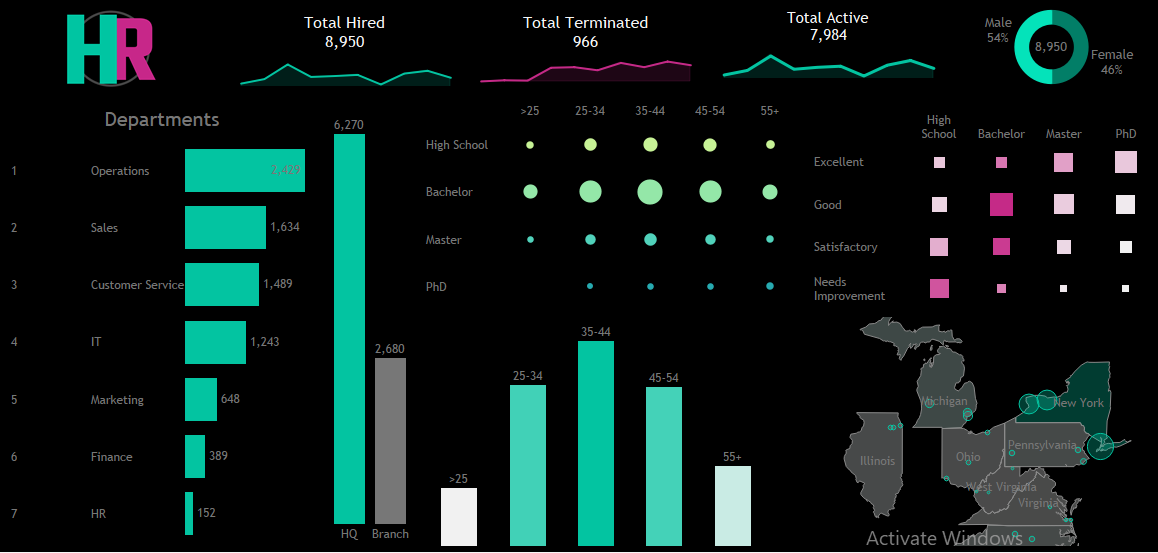

The dashboard page shown, as its layout file describes it:
{"tool":"tableau","page":{"name":"HR Sammary","canvas":[1000,1000],"units":"permille","ordinal":0},"visuals":[{"type":"blank","box":[5.2,10.9,83.1,395.8]},{"type":"text","box":[96.1,16.3,446.7,61.6]},{"type":"blank","box":[542.9,16.3,394.8,61.6]},{"type":"text","box":[98.7,94.2,203.5,48.9]},{"type":"text","box":[310,99.6,622.5,48.9]},{"type":"text","box":[98.7,143.1,203.5,58]},{"type":"text","box":[312.6,154,109.1,39.9]},{"type":"blank","box":[421.7,154,27.7,268.1]},{"type":"text","box":[449.4,154,227.7,39.9]},{"type":"blank","box":[677.1,154,27.7,268.1]},{"type":"text","box":[704.8,154,225.1,39.9]},{"type":"worksheet","title":"gender","mark":"Pie","cols":["Calculation_195906642923786244","Calculation_195906642923786244"],"box":[312.6,193.8,109.1,228.3]},{"type":"worksheet","title":"Age Group","mark":"Bar","rows":["Calculation_335799705955426304"],"cols":["Calculation_195906642927767558"],"box":[449.4,193.8,227.7,119.6]},{"type":"worksheet","title":"Education vs Performance","mark":"Square","rows":["Performance Rating"],"cols":["Education Level"],"box":[704.8,193.8,225.1,228.3]},{"type":"worksheet","title":"Ban Active","mark":"Automatic","box":[98.7,201.1,203.5,18.1]},{"type":"blank","box":[98.7,219.2,203.5,56.2]},{"type":"text","box":[101.3,280.8,77.1,51.9]},{"type":"blank","box":[178.4,280.8,40.7,155.8]},{"type":"text","box":[219.1,280.8,80.5,39.9]},{"type":"worksheet","title":"Age vs Education","mark":"Circle","rows":["Education Level"],"cols":["Calculation_195906642927767558"],"box":[449.4,313.4,141.1,108.7]},{"type":"worksheet","title":"Education Levels","mark":"Bar","rows":["Education Level"],"cols":["Calculation_335799705955426304"],"box":[590.5,313.4,86.6,108.7]},{"type":"worksheet","title":"Ban Terminated","mark":"Automatic","box":[219.1,320.6,80.5,58]},{"type":"worksheet","title":"Ban Hired","mark":"Automatic","box":[101.3,332.7,77.1,51.9]},{"type":"worksheet","title":"Terminated By Year","mark":"Line","rows":["Calculation_335799705956065281","Calculation_335799705956065281"],"cols":["Termdate"],"box":[219.1,378.6,80.5,58]},{"type":"worksheet","title":"Hired By Year","mark":"Line","rows":["Calculation_335799705955426304","Calculation_335799705955426304"],"cols":["Hiredate"],"box":[101.3,384.6,77.1,52]},{"type":"blank","box":[5.2,406.7,83.1,395.8]},{"type":"blank","box":[310,427.5,622.5,67]},{"type":"blank","box":[98.7,442,61.5,58]},{"type":"text","box":[160.2,442,74.5,58]},{"type":"blank","box":[234.6,442,67.5,58]},{"type":"worksheet","title":"Departments","mark":"Bar","rows":["Calculation_195906642866061313","Department"],"cols":["Calculation_335799705955426304"],"box":[98.7,500,203.5,126.8]},{"type":"text","box":[310,505.4,622.5,48.9]},{"type":"blank","box":[312.6,559.8,308.6,235.5]},{"type":"blank","box":[621.2,559.8,308.6,235.5]},{"type":"blank","box":[98.7,626.8,71.3,54.4]},{"type":"text","box":[170,626.8,60.9,54.4]},{"type":"blank","box":[230.9,626.8,71.3,54.4]},{"type":"worksheet","title":"map state","mark":"Multipolygon","box":[98.7,681.2,150.7,244.6]},{"type":"worksheet","title":"Location","mark":"Bar","rows":["Calculation_335799705955426304"],"cols":["Calculation_195906642867658754"],"box":[249.4,681.2,52.8,244.6]},{"type":"blank","box":[310,800.7,622.5,67]},{"type":"legend","title":"Age vs Education","param":"[federated.1dtjrmg0fep29l11lsx6c0gyc1j6].[usr:Calculation_335799705955426304:qk]","box":[5.2,802.5,83.1,186.6]}]}

Visuals, with their boxes on the dashboard's canvas, which has no fixed pixel size, in thousandths of its width and height (x1, y1, x2, y2). These are canvas units, not pixel positions in the 1158x553 screenshot, which may show the page scaled, cropped or inside an application window:
blank: 5,11,88,407
text: 96,16,543,78
blank: 543,16,938,78
text: 99,94,302,143
text: 310,100,932,148
text: 99,143,302,201
text: 313,154,422,194
blank: 422,154,449,422
text: 449,154,677,194
blank: 677,154,705,422
text: 705,154,930,194
"gender" worksheet (Pie marks): 313,194,422,422
"Age Group" worksheet (Bar marks): 449,194,677,313
"Education vs Performance" worksheet (Square marks): 705,194,930,422
"Ban Active" worksheet: 99,201,302,219
blank: 99,219,302,275
text: 101,281,178,333
blank: 178,281,219,437
text: 219,281,300,321
"Age vs Education" worksheet (Circle marks): 449,313,590,422
"Education Levels" worksheet (Bar marks): 590,313,677,422
"Ban Terminated" worksheet: 219,321,300,379
"Ban Hired" worksheet: 101,333,178,385
"Terminated By Year" worksheet (Line marks): 219,379,300,437
"Hired By Year" worksheet (Line marks): 101,385,178,437
blank: 5,407,88,802
blank: 310,428,932,494
blank: 99,442,160,500
text: 160,442,235,500
blank: 235,442,302,500
"Departments" worksheet (Bar marks): 99,500,302,627
text: 310,505,932,554
blank: 313,560,621,795
blank: 621,560,930,795
blank: 99,627,170,681
text: 170,627,231,681
blank: 231,627,302,681
"map state" worksheet (Multipolygon marks): 99,681,249,926
"Location" worksheet (Bar marks): 249,681,302,926
blank: 310,801,932,868
"Age vs Education" legend: 5,802,88,989
